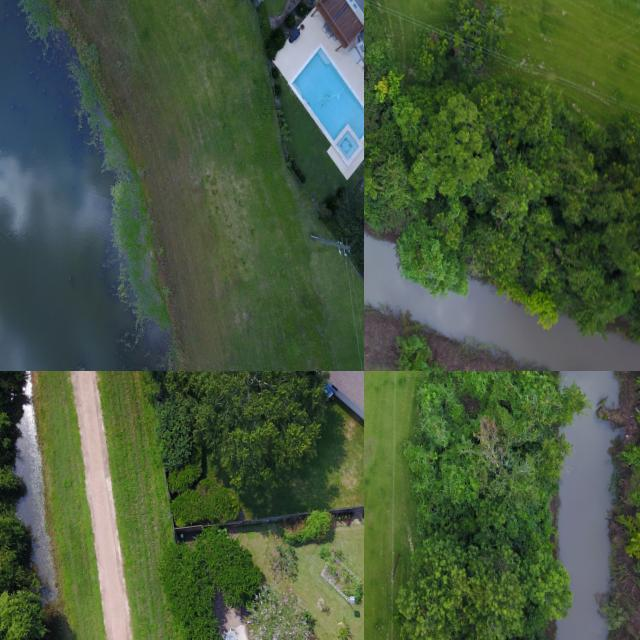fire: (0, 0, 168, 371), (364, 232, 640, 371), (557, 371, 619, 640), (14, 371, 56, 600)
